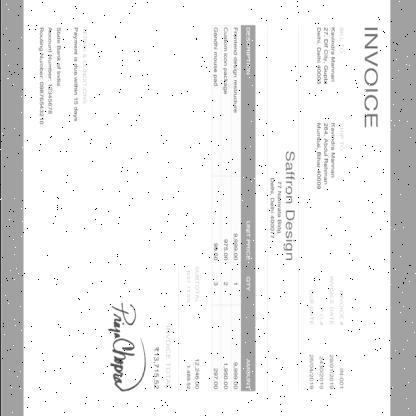Paragraph: (37, 24, 87, 126), (308, 274, 344, 392), (267, 150, 296, 262), (183, 262, 201, 392), (314, 121, 344, 190), (314, 26, 344, 86), (362, 26, 378, 130), (150, 326, 172, 392)
Table: (210, 26, 255, 392)
